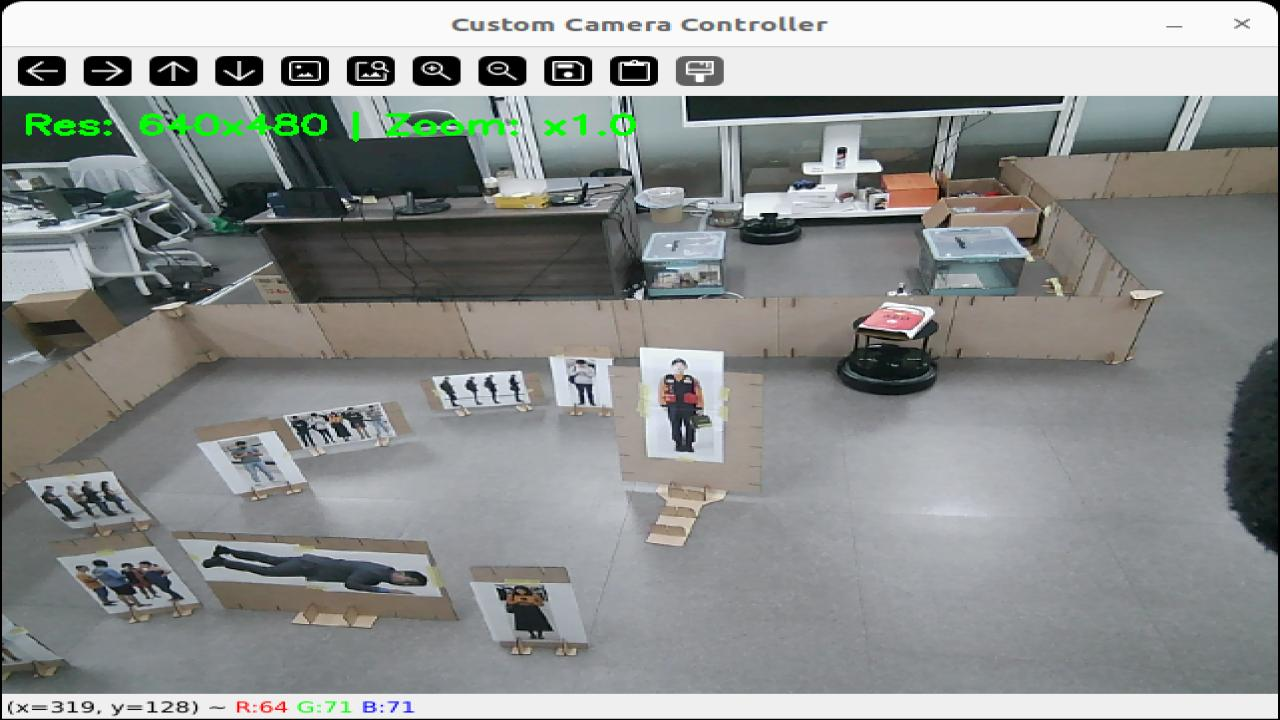AED: (859, 301, 933, 339)
Crowd: (498, 585, 552, 639), (94, 561, 144, 605), (231, 441, 273, 481), (140, 562, 183, 599), (78, 566, 112, 605), (122, 563, 158, 597), (568, 360, 592, 405), (42, 486, 72, 519), (66, 486, 94, 517), (102, 481, 130, 511), (367, 406, 389, 443), (289, 416, 313, 446), (341, 409, 365, 438), (309, 414, 331, 441), (329, 412, 345, 441), (482, 376, 498, 402), (439, 377, 455, 399), (465, 376, 477, 405), (84, 481, 96, 498), (100, 505, 114, 514), (96, 493, 106, 505)
Patient: (203, 546, 425, 593)
Responder: (660, 360, 702, 452)
Robot: (837, 320, 936, 394)
